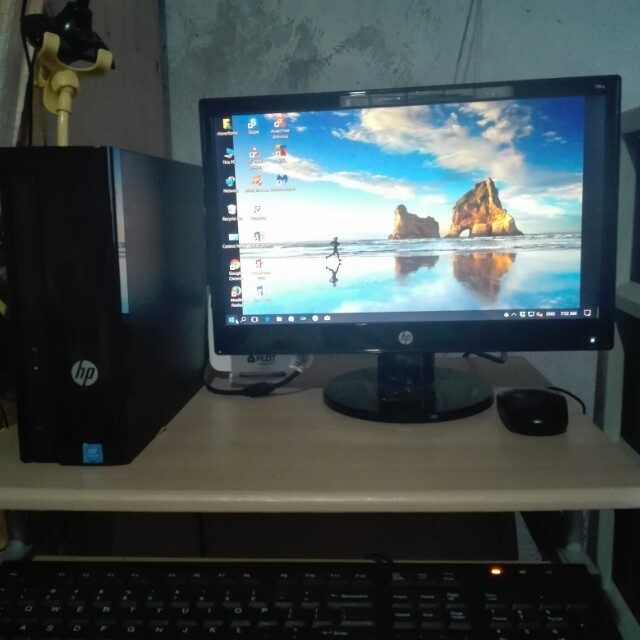hp-monitor-19ka: (201, 76, 628, 383)
